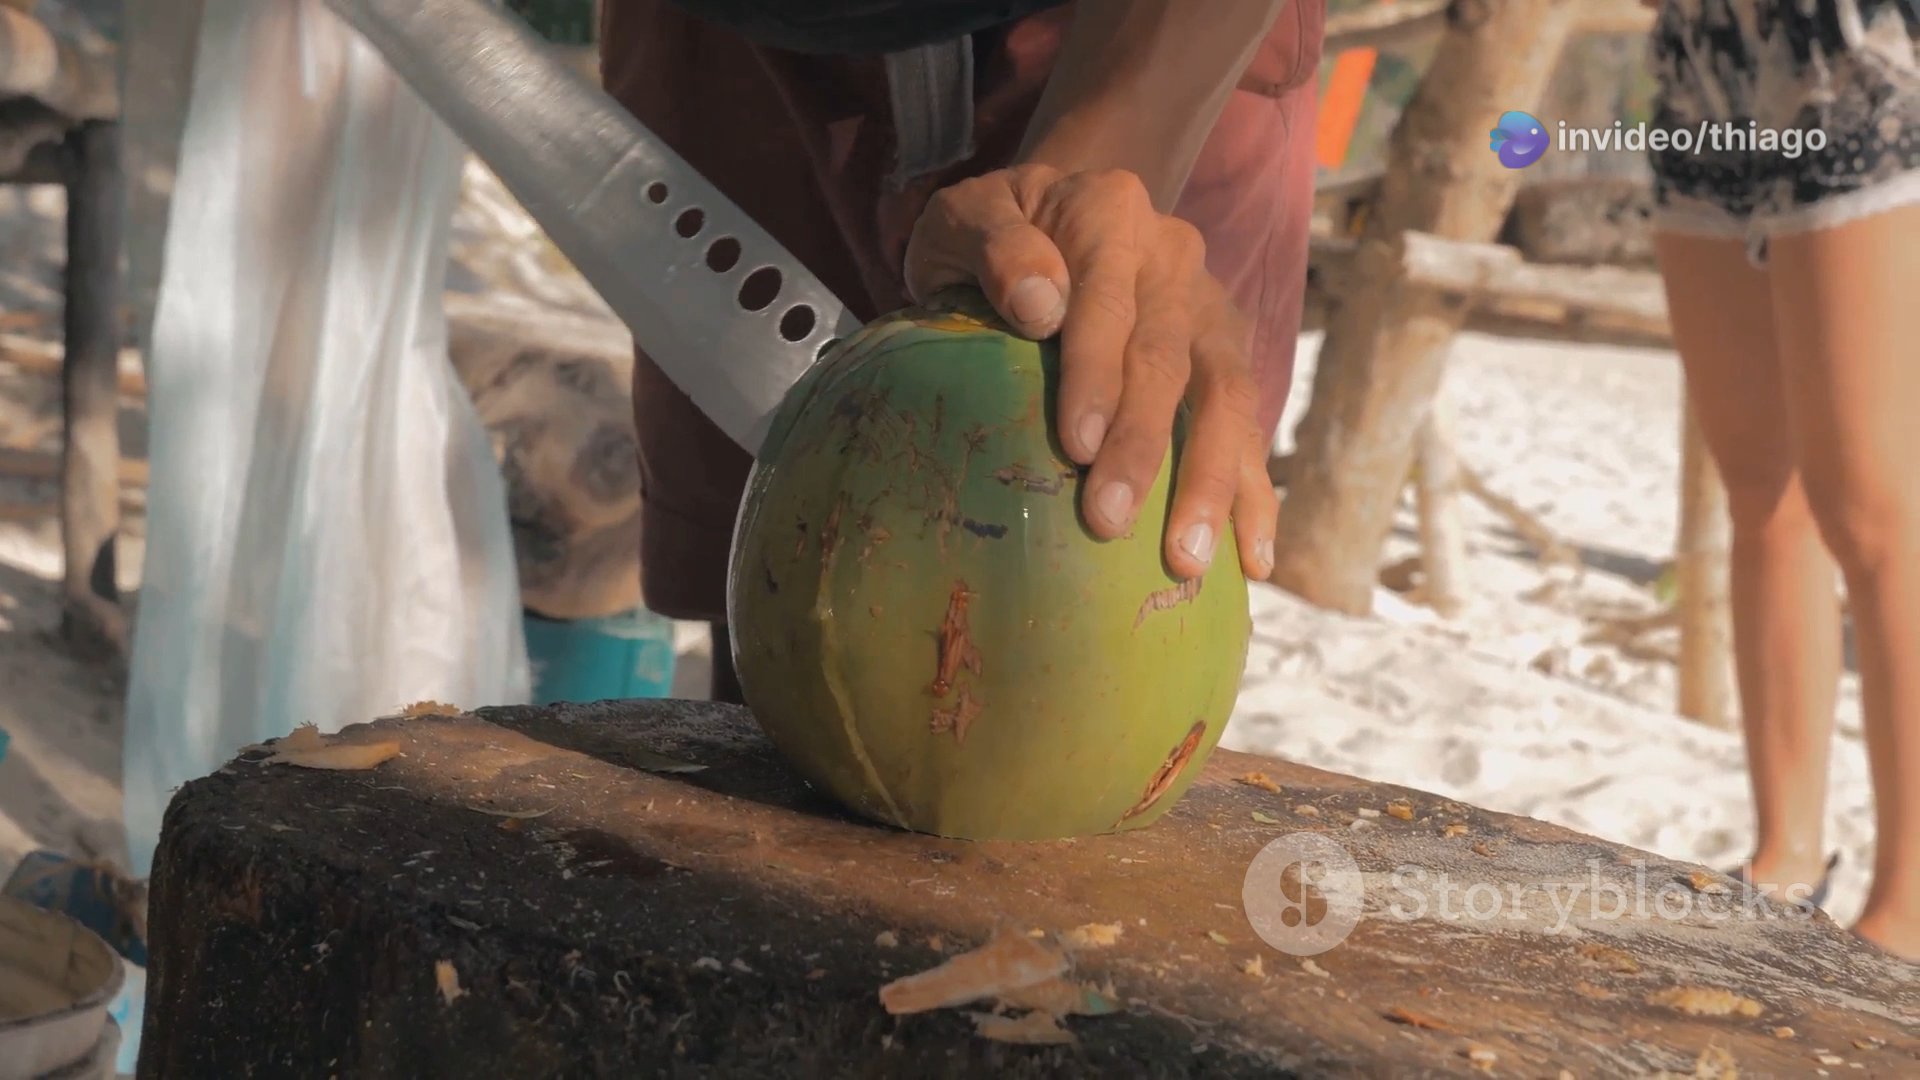cortante: (313, 0, 869, 459)
